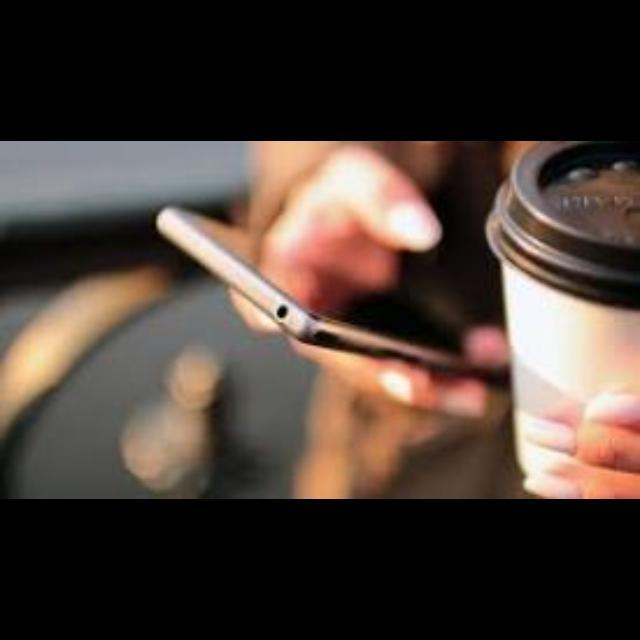Phone: (152, 196, 503, 394)
